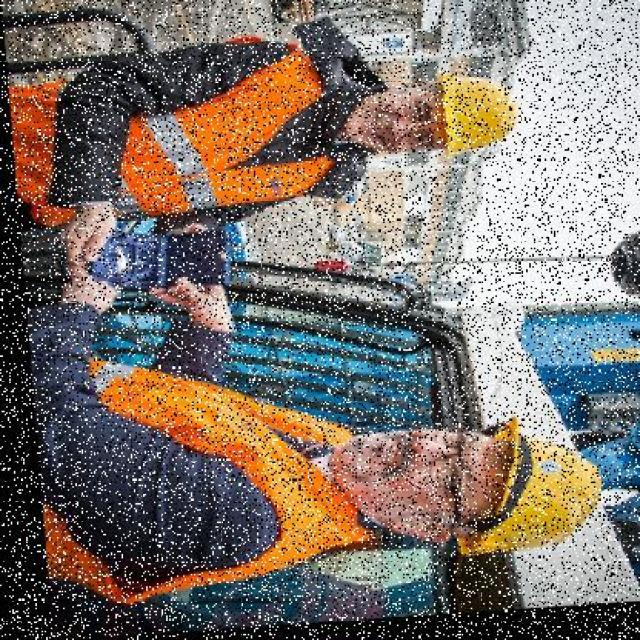helmet: (431, 416, 600, 566), (417, 71, 521, 171)
vest: (28, 368, 334, 610), (40, 48, 338, 223)
